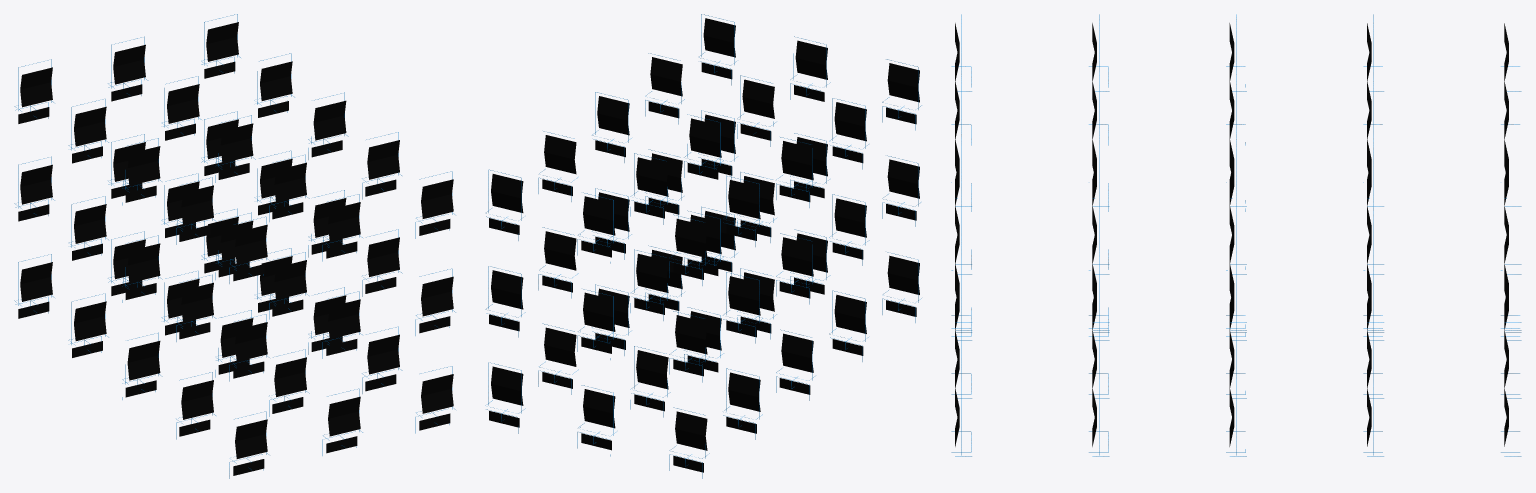
The model's file is purgatory_small.glb.
3 renders of one model, left to right at view 1: azimuth 30°, elevation 25°; view 2: azimuth 150°, elevation 25°; view 3: azimuth 270°, elevation 25°, orthographic. The views are drawn at different scales.
Visible parts, largest first — view 1: face44, face1, face39, face5, face43, face36, face6, face0, face14, face10, face42, face33 (+33 smaller); view 2: face39, face35, face32, face34, face29, face28, face16, face15, face43, face42, face40, face9 (+33 smaller); view 3: no part large enough to name.
Part boxes in pixels (x1=…): face44: x1=206, y1=22, x2=238, y2=61; face1: x1=328, y1=396, x2=360, y2=436; face39: x1=20, y1=164, x2=52, y2=204; face5: x1=421, y1=276, x2=453, y2=316; face43: x1=113, y1=44, x2=145, y2=84; face36: x1=20, y1=262, x2=52, y2=301; face6: x1=235, y1=224, x2=267, y2=264; face0: x1=235, y1=419, x2=267, y2=458; face14: x1=367, y1=237, x2=399, y2=276; face10: x1=274, y1=357, x2=306, y2=397; face42: x1=20, y1=67, x2=52, y2=107; face33: x1=74, y1=106, x2=106, y2=146; face39: x1=675, y1=315, x2=707, y2=354; face35: x1=544, y1=135, x2=576, y2=174; face32: x1=544, y1=231, x2=576, y2=270; face34: x1=636, y1=157, x2=668, y2=196; face29: x1=544, y1=327, x2=576, y2=366; face28: x1=636, y1=350, x2=668, y2=389; face16: x1=742, y1=79, x2=774, y2=118; face15: x1=834, y1=102, x2=866, y2=141; face43: x1=583, y1=196, x2=615, y2=235; face42: x1=675, y1=218, x2=707, y2=257; face40: x1=583, y1=292, x2=615, y2=331; face9: x1=834, y1=294, x2=866, y2=333.
Bounding box in the file's own units: 7.08 × 7.91 × 12.46.
